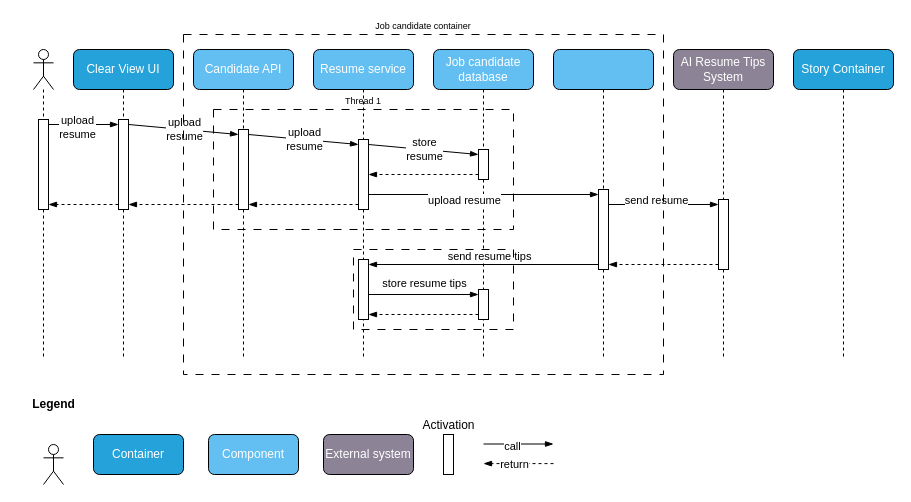
The diagram is 911 pixels wide and 502 high, and some of its shapes have lost their labels. Here are the shapes that lost their labels. From the top down, the centre of each, then its label:
the point at 43,204: Job candidate
the point at 603,204: AI Resume Tips Adapter
the point at 433,289: Thread 2
the point at 53,464: Actor
